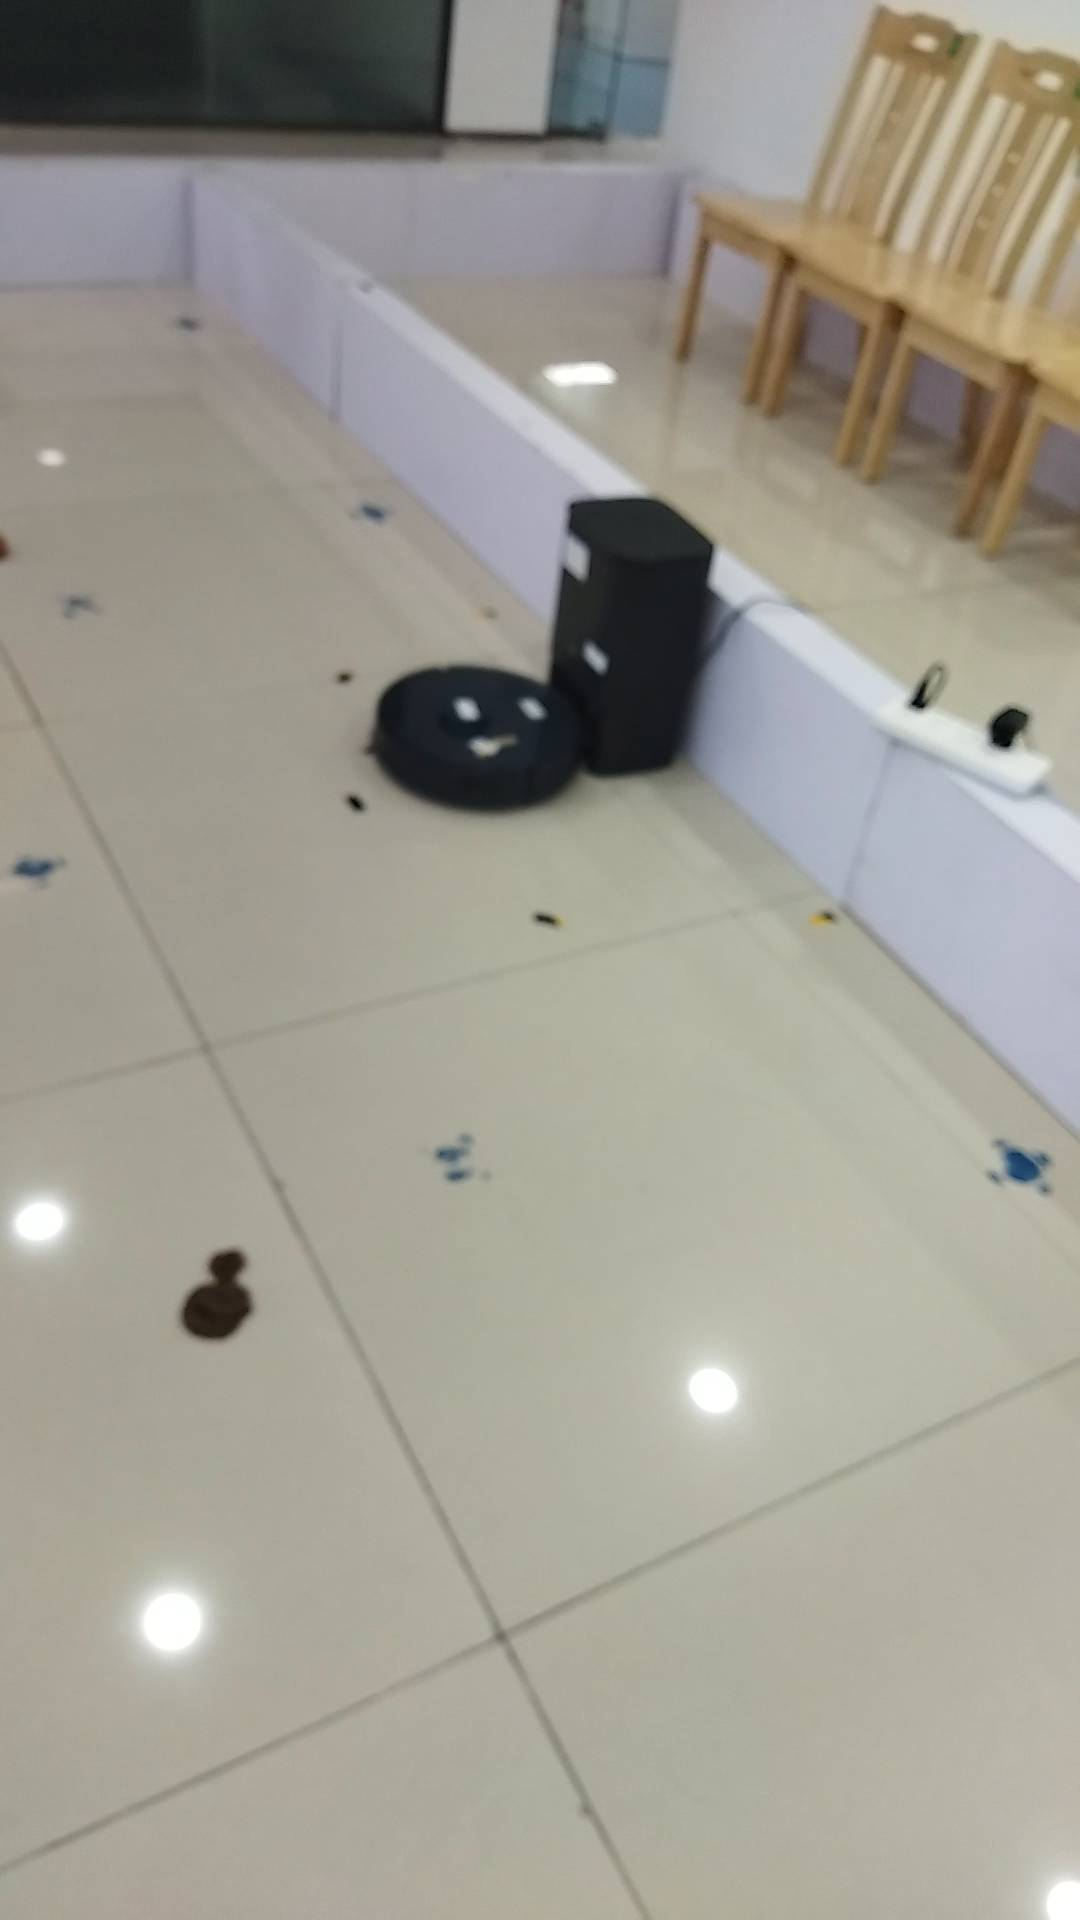dust collecting barrel: (546, 495, 720, 778)
